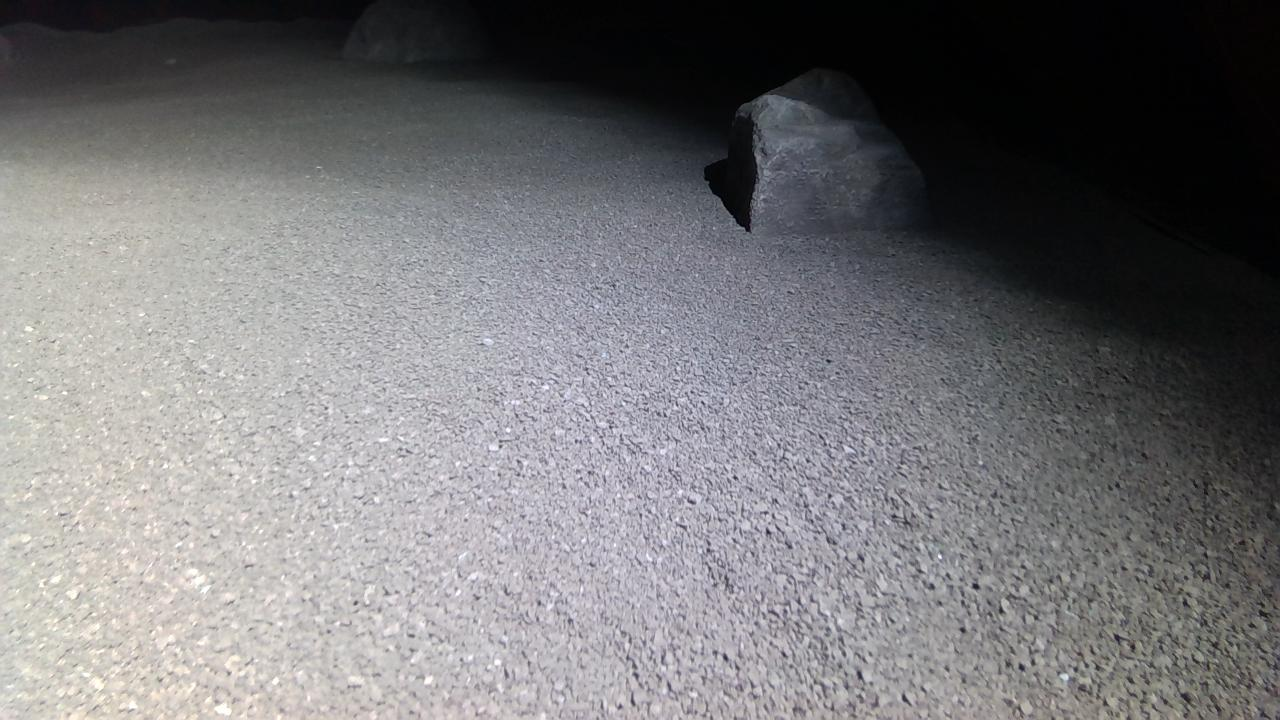rock: (725, 70, 928, 233), (344, 0, 491, 61)
